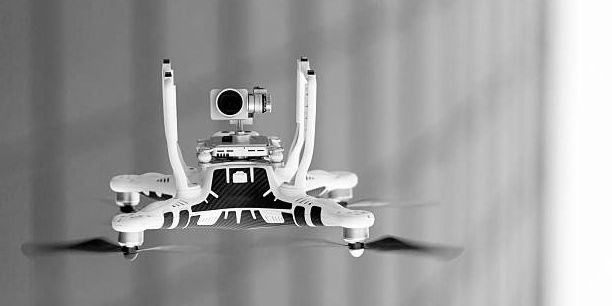Drone: (20, 48, 469, 264)
